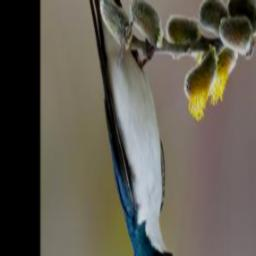Swallow: (79, 0, 174, 256)
